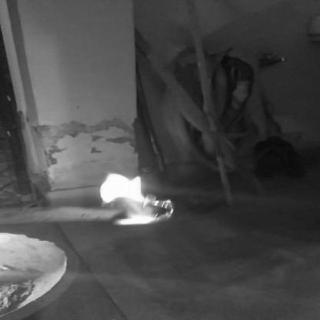Fire: (90, 167, 181, 225)
